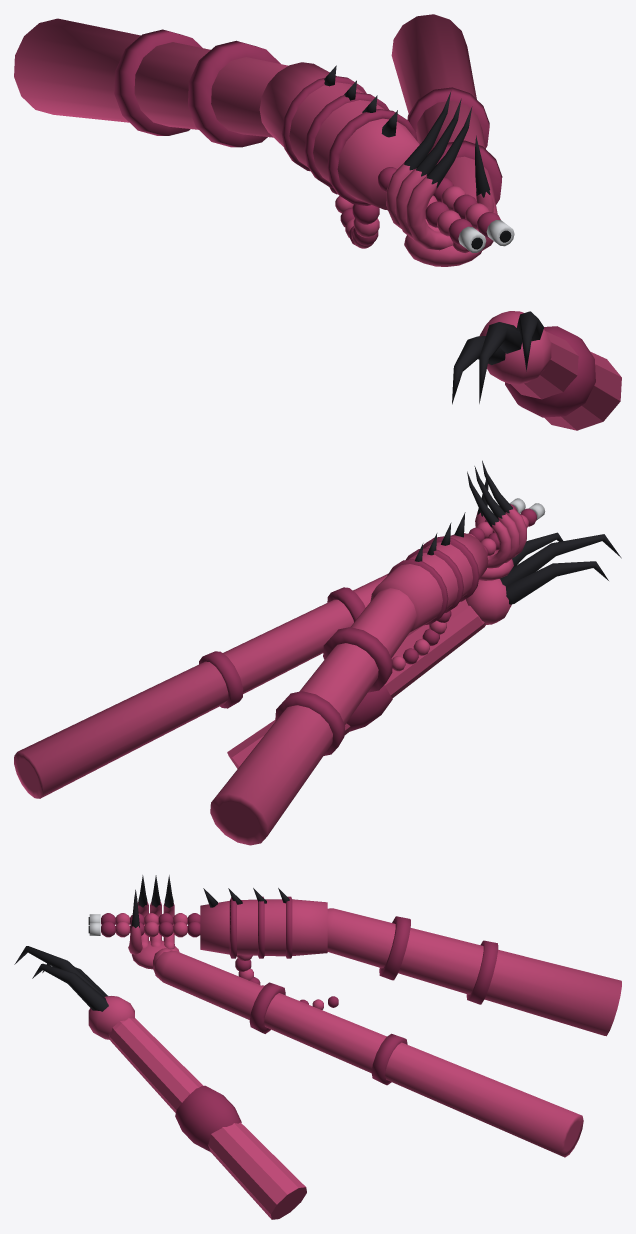
File: streptococcus.glb
3 views of the same model, one above another, from view 1: azimuth 30°, elevation 25°; view 2: azimuth 150°, elevation 25°; view 3: azimuth 270°, elevation 25° (orthographic). The views are drawn at different scales.
Parts seen in each view (by area): view 1: w_streptococcus.arm_r, w_streptococcus.body, w_streptococcus.arm_l, w_streptococcus.melee, w_streptococcus.belt; view 2: w_streptococcus.arm_l, w_streptococcus.arm_r, w_streptococcus.melee, w_streptococcus.body, w_streptococcus.belt; view 3: w_streptococcus.arm_l, w_streptococcus.arm_r, w_streptococcus.melee, w_streptococcus.body, w_streptococcus.belt.
Part boxes in pixels (x1,y1,x2,y2): w_streptococcus.arm_r: [14, 18, 288, 147]; w_streptococcus.body: [259, 62, 514, 252]; w_streptococcus.arm_l: [386, 14, 502, 266]; w_streptococcus.melee: [452, 311, 621, 430]; w_streptococcus.belt: [329, 187, 379, 248]; w_streptococcus.arm_l: [14, 460, 526, 798]; w_streptococcus.arm_r: [210, 588, 416, 845]; w_streptococcus.melee: [227, 532, 621, 768]; w_streptococcus.body: [370, 498, 545, 632]; w_streptococcus.belt: [392, 610, 451, 671]; w_streptococcus.arm_l: [128, 875, 583, 1157]; w_streptococcus.arm_r: [327, 908, 621, 1036]; w_streptococcus.melee: [14, 946, 306, 1219]; w_streptococcus.body: [88, 888, 327, 958]; w_streptococcus.belt: [235, 955, 338, 1009].
Size of the model in its own units: 0.5621 by 0.5586 by 1.1.
